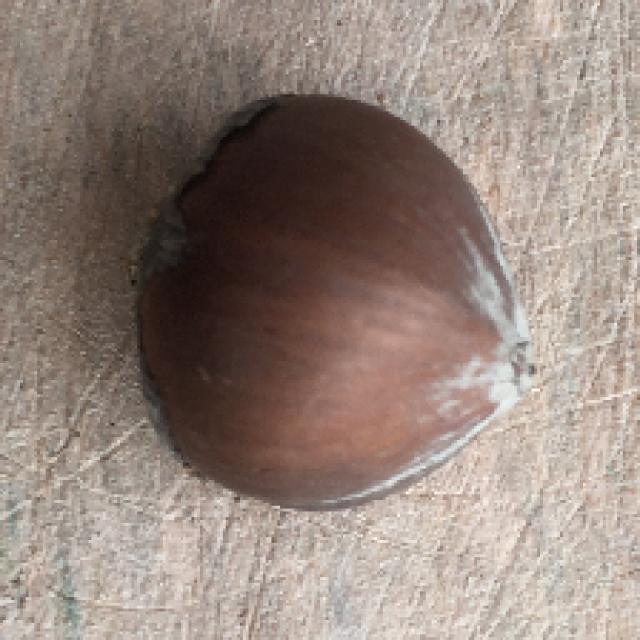DamagedHazelnut: (130, 92, 534, 510)
